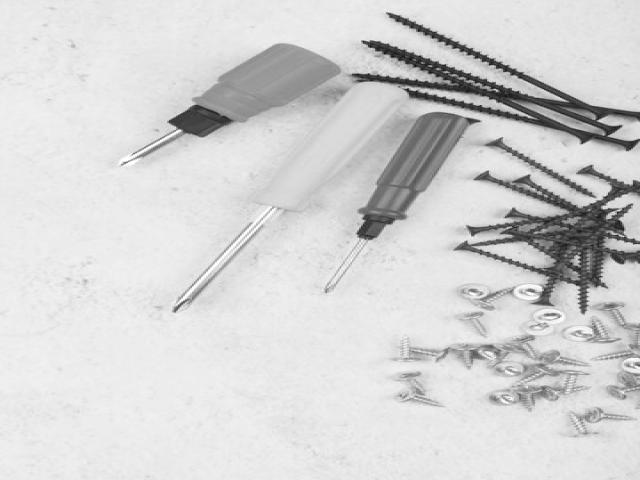Screwdriver: (173, 82, 408, 312), (324, 113, 479, 293), (121, 44, 341, 166)
